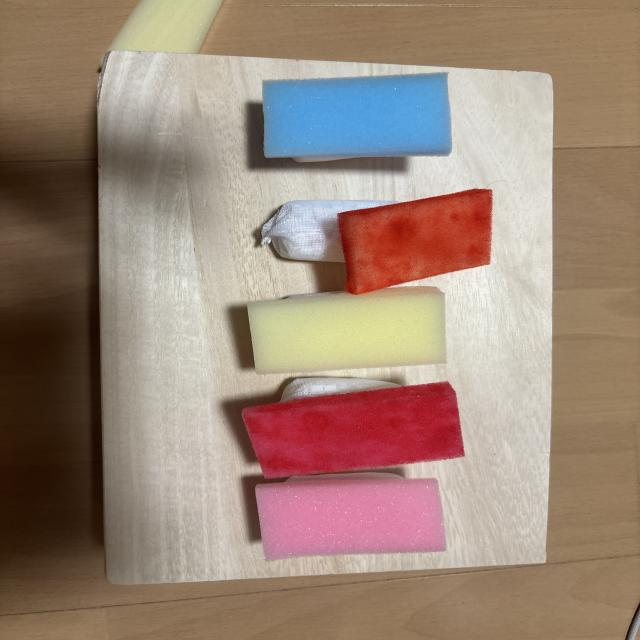NG: (262, 189, 492, 294), (242, 377, 464, 478)
ika: (263, 73, 452, 162)
tai: (256, 474, 446, 560)
tamago: (248, 287, 446, 374)
